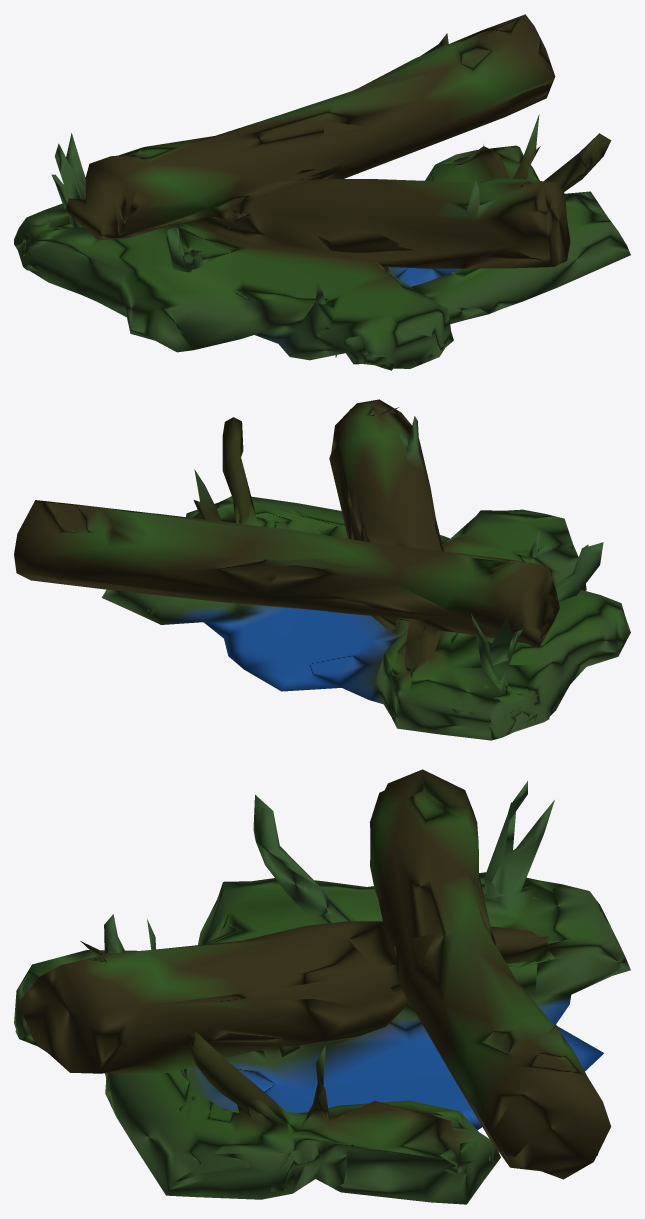
Rendered from gen3d-fallen-log-bridge-lod0.glb.
The picture shows the model from 3 angles, top to bottom: view 1: azimuth 30°, elevation 25°; view 2: azimuth 150°, elevation 25°; view 3: azimuth 270°, elevation 25°; orthographic projection. The views are drawn at different scales.
Parts seen in each view (by area): view 1: part_0; view 2: part_0; view 3: part_0.
Boxes of the visible parts, left/top/right/bottom form: part_0: left=14, top=14, right=630, bottom=370; part_0: left=14, top=399, right=630, bottom=740; part_0: left=14, top=769, right=630, bottom=1204.
Size of the model in its own units: 4 by 0.9987 by 3.2.
